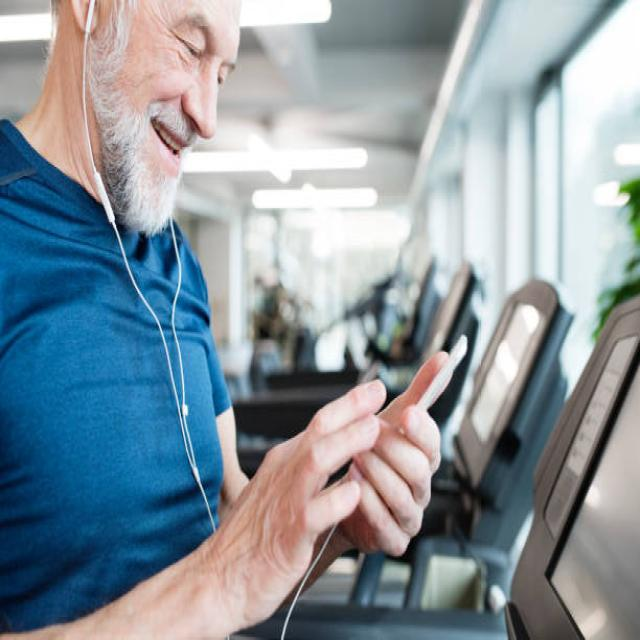Earphone: (83, 2, 216, 528)
